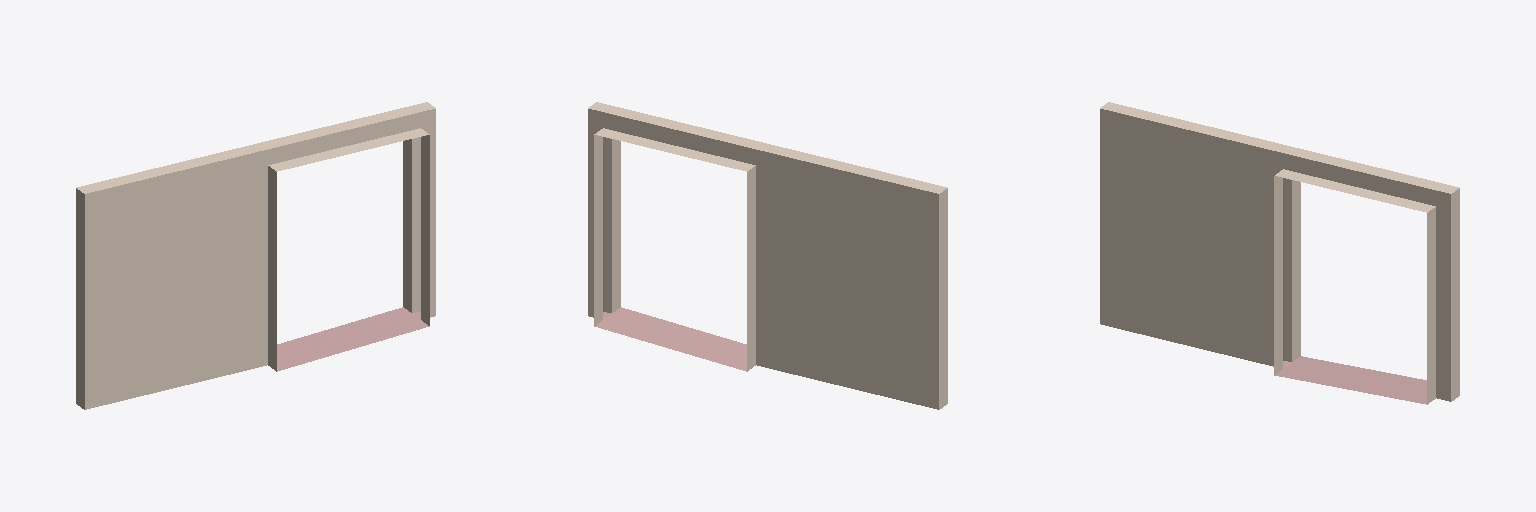
The model's file is Cheyenne-Door-Frame-0.obj.
3 renders of one model, left to right at view 1: azimuth 30°, elevation 25°; view 2: azimuth 150°, elevation 25°; view 3: azimuth 330°, elevation 25°, orthographic.
Visible parts, largest first — view 1: Cheyenne-Door-Frame-0; view 2: Cheyenne-Door-Frame-0; view 3: Cheyenne-Door-Frame-0.
Boxes of the visible parts, x1=… form: Cheyenne-Door-Frame-0: x1=76, y1=102, x2=435, y2=409; Cheyenne-Door-Frame-0: x1=588, y1=102, x2=947, y2=409; Cheyenne-Door-Frame-0: x1=1100, y1=102, x2=1459, y2=404.
Bounding box in the file's own units: 5.75 × 3.38 × 0.75.